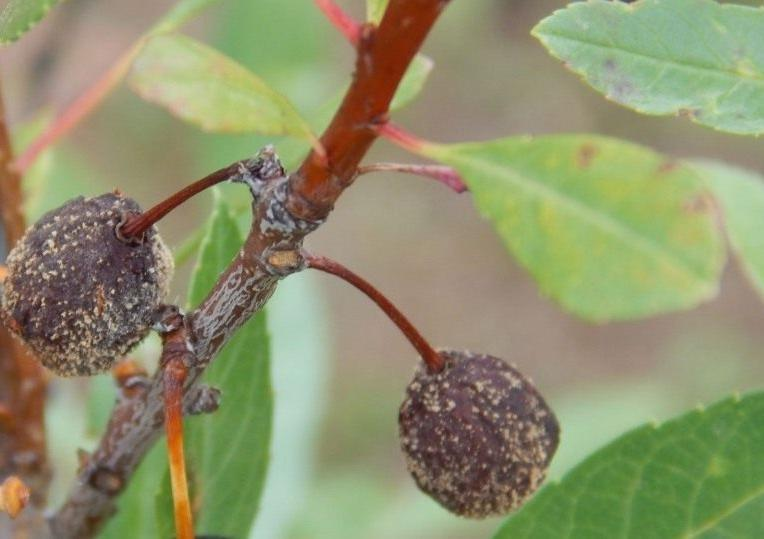mummified_fruits: (0, 193, 172, 376), (399, 350, 558, 515)
